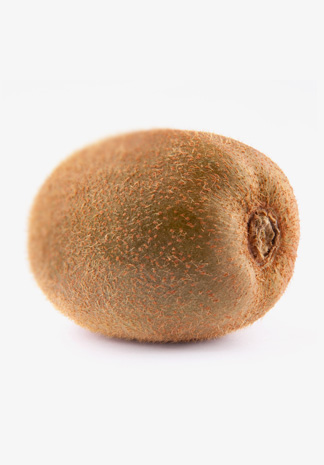kiwi: (27, 128, 298, 344)
